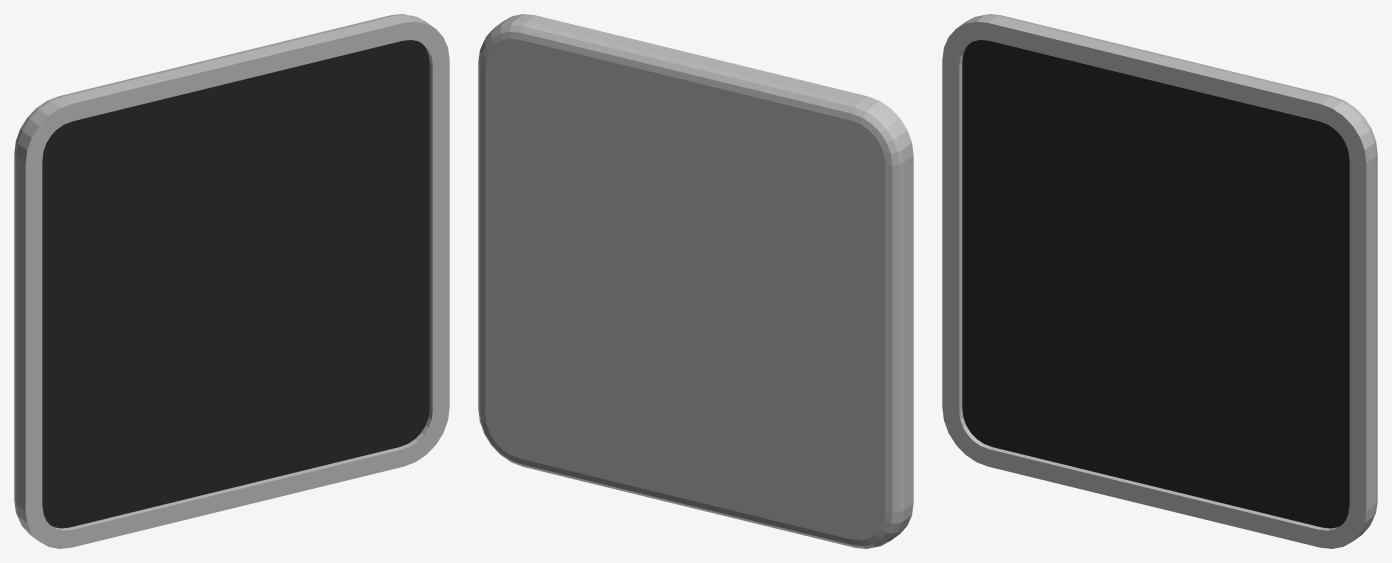
File: scoreboard-gr.glb
3 renders of one model, left to right at view 1: azimuth 30°, elevation 25°; view 2: azimuth 150°, elevation 25°; view 3: azimuth 330°, elevation 25°, orthographic.
Parts seen in each view (by area): view 1: Scoreboard; view 2: Scoreboard; view 3: Scoreboard.
Part boxes in pixels (x1,y1,x2,y2): Scoreboard: (14,14,449,548); Scoreboard: (478,14,913,548); Scoreboard: (942,14,1377,548).
Bounding box in the file's own units: 3 × 3 × 0.2.
1 material, 1 textured.
